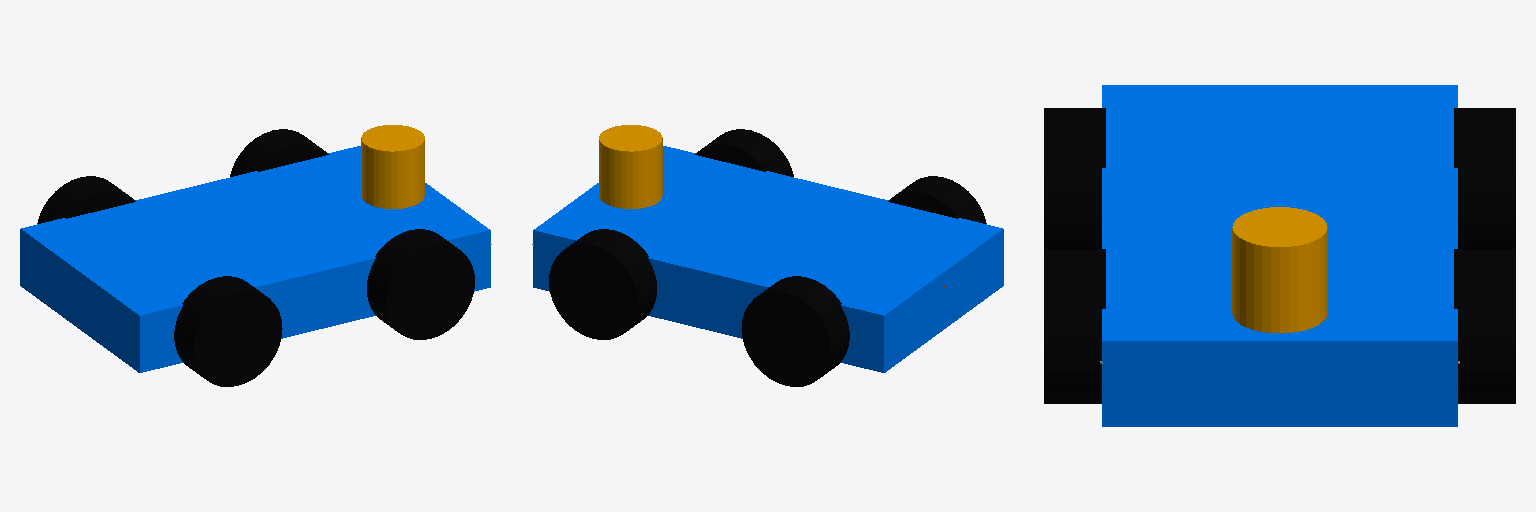
robot.urdf — hamer_mini:
<?xml version='1.0'?>
<robot name="hamer_mini">
	
	<!-- Dummy Link 
	<link name="dummy"/>
  	<joint name="dummy_joint" type="fixed">
     		<parent link="dummy"/>
     		<child link="base_link"/>
   	</joint> -->

	<!-- Base Link -->
	<link name="base_link">
	 	<visual>
		   <origin xyz="0 0 0" rpy="0 0 0" />
		   <geometry>
			<box size="0.255 0.150 0.04"/>
		   </geometry>
		   <material name="blue">
		      <color rgba="0 0.5 1 1"/>
		   </material>
		</visual>
		<!-- Base Collision -->
		<collision>
		   <origin xyz="0 0 0" rpy="0 0 0" />
		   <geometry>
			<box size="0.255 0.150 0.04"/>
		   </geometry>
		</collision>
		<!-- Base Inertial Elements -->
		<inertial>
		   <mass value="0.5"/>
		   <inertia ixx="0.002776" ixy="0.0" ixz="0.0"
			    iyy="0.003647" iyz="0.0" izz="0.001004"/>
		</inertial>
	</link>

	<!-- Right Back Wheel -->
	<link name="right_back_wheel">
	 	<visual>
		   <origin xyz="0 0 0" rpy="1.570795 0 0" />
		   <geometry>
			<cylinder length="0.026" radius="0.0325" />
		   </geometry>
		   <material name="black">
		      <color rgba="0.05 0.05 0.05 1"/>
		   </material>
		</visual>
		<!-- Right Back Wheel Collision -->
		<collision>
		   <origin xyz="0 0 0" rpy="1.570795 0 0" />
		   <geometry>
			<cylinder length="0.026" radius="0.0325" />
		   </geometry>
		</collision>
		<!-- Right Back Wheel Inertial Elements -->
		<inertial>
		   <mass value="0.01"/>
		   <inertia ixx="0.000003204" ixy="0.0" ixz="0.0"
			    iyy="0.000003204" iyz="0.0" izz="0.00005281"/>
		</inertial>
	</link>

	<joint name="joint_right_back_wheel" type="continuous">
	   <parent link="base_link"/>
	   <child link="right_back_wheel"/>
	   <origin xyz="-0.07 -0.086 0" rpy="0 0 0" />
	   <axis xyz="0 1 0"/>
	</joint>

	<!-- Right Front Wheel -->
	<link name="right_front_wheel">
	 	<visual>
		   <origin xyz="0 0 0" rpy="1.570795 0 0" />
		   <geometry>
			<cylinder length="0.026" radius="0.0325" />
		   </geometry>
		   <material name="black">
		      <color rgba="0.05 0.05 0.05 1"/>
		   </material>
		</visual>
		<!-- Right Front Wheel Collision -->
		<collision>
		   <origin xyz="0 0 0" rpy="1.570795 0 0" />
		   <geometry>
			<cylinder length="0.026" radius="0.0325" />
		   </geometry>
		</collision>
		<!-- Right Front Wheel Inertial Elements -->
		<inertial>
		   <mass value="0.01"/>
		   <inertia ixx="0.000003204" ixy="0.0" ixz="0.0"
			    iyy="0.000003204" iyz="0.0" izz="0.00005281"/>
		</inertial>
	</link>

	<joint name="joint_right_front_wheel" type="continuous">
	   <parent link="base_link"/>
	   <child link="right_front_wheel"/>
	   <origin xyz="0.07 -0.086 0" rpy="0 0 0" />
	   <axis xyz="0 1 0"/>
	</joint>

	<!-- Left Back Wheel -->
	<link name="left_back_wheel">
	 	<visual>
		   <origin xyz="0 0 0" rpy="1.570795 0 0" />
		   <geometry>
			<cylinder length="0.026" radius="0.0325" />
		   </geometry>
		   <material name="black">
		      <color rgba="0.05 0.05 0.05 1"/>
		   </material>
		</visual>
		<!-- Left Back Wheel Collision -->
		<collision>
		   <origin xyz="0 0 0" rpy="1.570795 0 0" />
		   <geometry>
			<cylinder length="0.026" radius="0.0325" />
		   </geometry>
		</collision>
		<!-- Left Back Wheel Inertial Elements -->
		<inertial>
		   <mass value="0.01"/>
		   <inertia ixx="0.000003204" ixy="0.0" ixz="0.0"
			    iyy="0.000003204" iyz="0.0" izz="0.00005281"/>
		</inertial>
	</link>

	<joint name="joint_left_back_wheel" type="continuous">
	   <parent link="base_link"/>
	   <child link="left_back_wheel"/>
	   <origin xyz="-0.07 0.086 0" rpy="0 0 0" />
	   <axis xyz="0 1 0"/>
	</joint>

	<!-- Left Front Wheel -->
	<link name="left_front_wheel">
	 	<visual>
		   <origin xyz="0 0 0" rpy="1.570795 0 0" />
		   <geometry>
			<cylinder length="0.026" radius="0.0325" />
		   </geometry>
		   <material name="black">
		      <color rgba="0.05 0.05 0.05 1"/>
		   </material>
		</visual>
		<!-- Left Front Wheel Collision -->
		<collision>
		   <origin xyz="0 0 0" rpy="1.570795 0 0" />
		   <geometry>
			<cylinder length="0.026" radius="0.0325" />
		   </geometry>
		</collision>
		<!--Left Front Wheel Inertial Elements -->
		<inertial>
		   <mass value="0.01"/>
		   <inertia ixx="0.000003204" ixy="0.0" ixz="0.0"
			    iyy="0.000003204" iyz="0.0" izz="0.00005281"/>
		</inertial>
	</link>

	<joint name="joint_left_front_wheel" type="continuous">
	   <parent link="base_link"/>
	   <child link="left_front_wheel"/>
	   <origin xyz="0.07 0.086 0" rpy="0 0 0" />
	   <axis xyz="0 1 0"/>
	</joint>

	<!-- Gazebo references -->
	<gazebo reference="base_link">
	   <material>Gazebo/Blue</material>
	</gazebo>
	<gazebo reference="right_front_wheel">
	   <material>Gazebo/Black</material>
	</gazebo>
	<gazebo reference="right_back_wheel">
	   <material>Gazebo/Black</material>
	</gazebo>
	<gazebo reference="left_front_wheel">
	   <material>Gazebo/Black</material>
	</gazebo>
	<gazebo reference="left_back_wheel">
	   <material>Gazebo/Black</material>
	</gazebo>

	<!-- Ultrasonic Sonar Sensors Links -->
	<!-- <link name="sonar_front">
		<collision>
			<origin xyz="0 0 0" rpy="0 0 0"/>
			<geometry>
				<box size="0.001 0.001 0.001"/>
			</geometry>
		</collision>
		<visual>
			<origin xyz="0 0 0" rpy="0 0 0"/>
			<geometry>
				<box size="0.001 0.001 0.001"/>
			</geometry>
		</visual> 
		<inertial>
			<mass value="1e-5" />
			<origin xyz="0 0 0" rpy="0 0 0"/>
			<inertia ixx="1e-6" ixy="0" ixz="0" iyy="1e-6" iyz="0" izz="1e-6" />
		</inertial>
	</link>

	<joint name="sonar_front_joint" type="fixed">
		<axis xyz="0 0 0" />
		<origin xyz="0.1275 0 0.01" rpy="0 0 0"/>
		<parent link="base_link"/>
		<child link="sonar_front"/>
	</joint> -->	

	 <link name="sonar_back">
		<collision>
			<origin xyz="0 0 0" rpy="0 0 0"/>
			<geometry>
				<box size="0.001 0.001 0.001"/>
			</geometry>
		</collision>
		<visual>
			<origin xyz="0 0 0" rpy="0 0 0"/>
			<geometry>
				<box size="0.001 0.001 0.001"/>
			</geometry>
		</visual> 
		<inertial>
			<mass value="1e-5" />
			<origin xyz="0 0 0" rpy="0 0 0"/>
			<inertia ixx="1e-6" ixy="0" ixz="0" iyy="1e-6" iyz="0" izz="1e-6" />
		</inertial>
	</link>

	<joint name="sonar_back_joint" type="fixed">
		<axis xyz="0 0 0" />
		<origin xyz="-0.1275 0 0.01" rpy="0 3.14 0"/>
		<parent link="base_link"/>
		<child link="sonar_back"/>
	</joint> 	

	<!-- Front-Left/Right Sonars -->
	<link name="sonar_left">
		<collision>
			<origin xyz="0 0 0" rpy="0 0 0"/>
			<geometry>
				<box size="0.001 0.001 0.001"/>
			</geometry>
		</collision>
		<visual>
			<origin xyz="0 0 0" rpy="0 0 0"/>
			<geometry>
				<box size="0.001 0.001 0.001"/>
			</geometry>
		</visual> 
		<inertial>
			<mass value="1e-5" />
			<origin xyz="0 0 0" rpy="0 0 0"/>
			<inertia ixx="1e-6" ixy="0" ixz="0" iyy="1e-6" iyz="0" izz="1e-6" />
		</inertial>
	</link>

	<joint name="sonar_left_joint" type="fixed">
		<axis xyz="0 0 0" />
		<origin xyz="0.1275 0.075 0.01" rpy="0 0 0.785"/>
		<parent link="base_link"/>
		<child link="sonar_left"/>
	</joint>	

	<link name="sonar_right">
		<collision>
			<origin xyz="0 0 0" rpy="0 0 0"/>
			<geometry>
				<box size="0.001 0.001 0.001"/>
			</geometry>
		</collision>
		<visual>
			<origin xyz="0 0 0" rpy="0 0 0"/>
			<geometry>
				<box size="0.001 0.001 0.001"/>
			</geometry>
		</visual> 
		<inertial>
			<mass value="1e-5" />
			<origin xyz="0 0 0" rpy="0 0 0"/>
			<inertia ixx="1e-6" ixy="0" ixz="0" iyy="1e-6" iyz="0" izz="1e-6" />
		</inertial>
	</link>

	<joint name="sonar_right_joint" type="fixed">
		<axis xyz="0 0 0" />
		<origin xyz="0.1275 -0.075 0.01" rpy="0 0 -0.785"/>
		<parent link="base_link"/>
		<child link="sonar_right"/>
	</joint>

	<!-- Ultrasonic Sonar Sensors Gazebo Ref. -->
	<gazebo reference="sonar_front">
		<material>Gazebo/Green</material>
		<sensor type="ray" name="sonar_front">
		  <pose>0 0 0 0 0 0</pose>
		  <update_rate>5</update_rate>
		  <ray>
		    <scan>
		      <horizontal>
		        <samples>5</samples>
		        <resolution>1.0</resolution>
		        <min_angle>-0.05</min_angle>
		        <max_angle>0.05</max_angle>
		      </horizontal>
		      <vertical>
		        <samples>5</samples>
		        <resolution>1</resolution>
		        <min_angle>-0.05</min_angle>
		        <max_angle>0.05</max_angle>
		      </vertical>
		    </scan>
		    <range>
		      <min>0.01</min>
		      <max>0.9</max>
		      <resolution>0.01</resolution>
		    </range>
		  </ray>
		  <plugin filename="libgazebo_ros_range.so" name="gazebo_ros_range">
		    <gaussianNoise>0.005</gaussianNoise>
		    <alwaysOn>true</alwaysOn>
		    <updateRate>5</updateRate>
		    <topicName>sonar_front</topicName>
		    <frameName>sonar_front</frameName>
		    <fov>0.8</fov>
		    <radiation>ultrasound</radiation>
		  </plugin>
		</sensor>
	</gazebo>

	<!-- Sonar Back -->
	<gazebo reference="sonar_back">
		<material>Gazebo/Green</material>
		<sensor type="ray" name="sonar_back">
		  <pose>0 0 0 0 0 0</pose>
		  <update_rate>5</update_rate>
		  <ray>
		    <scan>
		      <horizontal>
		        <samples>5</samples>
		        <resolution>1.0</resolution>
		        <min_angle>-0.05</min_angle>
		        <max_angle>0.05</max_angle>
		      </horizontal>
		      <vertical>
		        <samples>5</samples>
		        <resolution>1</resolution>
		        <min_angle>-0.05</min_angle>
		        <max_angle>0.05</max_angle>
		      </vertical>
		    </scan>
		    <range>
		      <min>0.01</min>
		      <max>0.9</max>
		      <resolution>0.01</resolution>
		    </range>
		  </ray>
		  <plugin filename="libgazebo_ros_range.so" name="gazebo_ros_range">
		    <gaussianNoise>0.005</gaussianNoise>
		    <alwaysOn>true</alwaysOn>
		    <updateRate>5</updateRate>
		    <topicName>sonar_back</topicName>
		    <frameName>sonar_back</frameName>
		    <fov>0.8</fov>
		    <radiation>ultrasound</radiation>
		  </plugin>
		</sensor>
	</gazebo> 
	
	
	<gazebo reference="sonar_left">
		<material>Gazebo/Green</material>
		<sensor type="ray" name="sonar_left">
		  <pose>0 0 0 0 0 0</pose>
		  <update_rate>5</update_rate>
		  <ray>
		    <scan>
		      <horizontal>
		        <samples>5</samples>
		        <resolution>1.0</resolution>
		        <min_angle>-0.2</min_angle>
		        <max_angle>0.2</max_angle>
		      </horizontal>
		      <vertical>
		        <samples>5</samples>
		        <resolution>1</resolution>
		        <min_angle>-0.05</min_angle>
		        <max_angle>0.05</max_angle>
		      </vertical>
		    </scan>
		    <range>
		      <min>0.01</min>
		      <max>0.9</max>
		      <resolution>0.01</resolution>
		    </range>
		  </ray>
		  <plugin filename="libgazebo_ros_range.so" name="gazebo_ros_range">
		    <gaussianNoise>0.005</gaussianNoise>
		    <alwaysOn>true</alwaysOn>
		    <updateRate>5</updateRate>
		    <topicName>sonar_left</topicName>
		    <frameName>sonar_left</frameName>
		    <fov>0.8</fov>
		    <radiation>ultrasound</radiation>
		  </plugin>
		</sensor>
	</gazebo>

	<gazebo reference="sonar_right">
		<material>Gazebo/Green</material>
		<sensor type="ray" name="sonar_right">
		  <pose>0 0 0 0 0 0</pose>
		  <update_rate>5</update_rate>
		  <ray>
		    <scan>
		      <horizontal>
		        <samples>5</samples>
		        <resolution>1.0</resolution>
		        <min_angle>-0.05</min_angle>
		        <max_angle>0.05</max_angle>
		      </horizontal>
		      <vertical>
		        <samples>5</samples>
		        <resolution>1</resolution>
		        <min_angle>-0.05</min_angle>
		        <max_angle>0.05</max_angle>
		      </vertical>
		    </scan>
		    <range>
		      <min>0.01</min>
		      <max>0.9</max>
		      <resolution>0.01</resolution>
		    </range>
		  </ray>
		  <plugin filename="libgazebo_ros_range.so" name="gazebo_ros_range">
		    <gaussianNoise>0.005</gaussianNoise>
		    <alwaysOn>true</alwaysOn>
		    <updateRate>5</updateRate>
		    <topicName>sonar_right</topicName>
		    <frameName>sonar_right</frameName>
		    <fov>0.8</fov>
		    <radiation>ultrasound</radiation>
		  </plugin>
		</sensor>
	</gazebo>

	<!-- Differential Drive Plugin 
	<gazebo>
	    <plugin name="differential_drive_controller"
		    filename="libgazebo_ros_diff_drive.so">
		<legacyMode>false</legacyMode>
		<alwaysOn>true</alwaysOn>
		<updateRate>1000.0</updateRate>
		<leftJoint>joint_left_back_wheel, joint_left_front_wheel</leftJoint>
		<rightJoint>joint_right_back_wheel, joint_right_front_wheel</rightJoint>
		<robotBaseFrame>base_link</robotBaseFrame>
		<wheelSeparation>0.25</wheelSeparation>
		<wheelDiameter>0.07</wheelDiameter>
		<publishWheelJointState>true</publishWheelJointState>
		<wheelDiameter>0.2</wheelDiameter>
		<wheelTorque>10</wheelTorque>
		<publishTf>1</publishTf>
		<odometryFrame>map</odometryFrame>
		<commandTopic>cmd_vel</commandTopic>
		<odometryTopic>odom</odometryTopic>
		<robotBaseFrame>base_link</robotBaseFrame>
		<wheelAcceleration>2.8</wheelAcceleration>
		<publishWheelJointState>true</publishWheelJointState>
		<publishWheelTF>false</publishWheelTF>
		<odometrySource>world</odometrySource>
		<rosDebugLevel>Debug</rosDebugLevel>
	     </plugin>
	</gazebo>  -->
 
	<!-- Gazebo ROS Control Plugin and Planar Move Plugin -->
	<gazebo>
		<plugin name="gazebo_ros_control" filename="libgazebo_ros_control.so">
			<robotNamespace>/hamer_mini</robotNamespace>
			<!--<robotSimType>gazebo_ros_control/DefaultRobotHWSim</robotSimType> -->
			<legacyModeNS>false</legacyModeNS>
		</plugin>
	</gazebo> 	

	<gazebo>
		<plugin name="base_controller" filename="libgazebo_ros_planar_move.so">
		    <commandTopic>cmd_vel</commandTopic>
		    <odometryTopic>odom</odometryTopic>
		    <odometryFrame>odom</odometryFrame>
		    <odometryRate>100</odometryRate>
		    <robotBaseFrame>base_link</robotBaseFrame>
		</plugin> 
	</gazebo> 

	<!-- Hokuyo Laser -->
	 	
	<link name="hokuyo_link">
	  <collision>
	    <origin xyz="0 0 0" rpy="0 0 0"/>
	    <geometry>
	  	<cylinder length="0.04" radius="0.02" />
	    </geometry>
	  </collision>
	  <visual>
	    <origin xyz="0 0 0" rpy="0 0 0"/>
	    <geometry>
	  	<cylinder length="0.04" radius="0.02" />
	    </geometry>
	  </visual>
	</link>

	<joint name="hokuyo_joint" type="fixed">
	  <axis xyz="0 1 0" />
	  <origin xyz="0.1 0 0.04" rpy="0 0 0"/>
	  <parent link="base_link"/>
	  <child link="hokuyo_link"/>
	</joint>	

	<gazebo reference="hokuyo_link">
	    <sensor type="ray" name="head_hokuyo_sensor">
	      <pose>0 0 0 0 0 0</pose>
	      <visualize>true</visualize>
	      <update_rate>40</update_rate>
	      <ray>
		<scan>
		  <horizontal>
		    <samples>720</samples>
		    <resolution>1</resolution>
		    <min_angle>-3.1416</min_angle>
		    <max_angle>3.1416</max_angle>
		  </horizontal>
		</scan>
		<range>
		  <min>0.10</min>
		  <max>30.0</max>
		  <resolution>0.01</resolution>
		</range>
		<noise>
		  <type>gaussian</type>
		  <mean>0.0</mean>
		  <stddev>0.01</stddev>
		</noise>
	      </ray>
	      <plugin name="gazebo_ros_head_hokuyo_controller" filename="libgazebo_ros_laser.so">
		<topicName>/hamer_mini/laser/scan</topicName>
		<frameName>hokuyo_link</frameName>
	      </plugin>
	    </sensor>
  	</gazebo>  

	<!-- Kinect Camera
	<link name="camera_link">
	 	<visual>
		   <origin rpy="1.570796 0 0" xyz="0 0 0"/>
		   <geometry>
		       <mesh filename="package://hamer_mini/meshes/Stl/Intel_RealSense_Depth_Camera_D435.stl" scale="0.00105 0.00105 0.00105"/>
		   </geometry>
	 	</visual>
	 	<collision>
			<origin xyz="0.0 0.0 0.0" rpy="0 0 0" />
			<geometry>
				<box size="0.0730 0.2760 0.0720"/>
	       		</geometry>
	 	</collision>
	 	<inertial>
			<mass value="0.170" />
			<origin xyz="0 0 0" />
			<inertia ixx="0.001152600" ixy="0.0" ixz="0.0"
				iyy="0.000148934" iyz="0.0"
				izz="0.001154654" />
	 		</inertial>
	</link>
	
	<joint name="camera_rgb_joint" type="fixed">
	 	<origin xyz="0.1275 0 0.03" rpy="0.0 0.0 0.0"/>
	 	<parent link="camera_link"/>
		<child link="camera_rgb_frame" />
	</joint>
	
	<gazebo reference="camera_link">
		<material>Gazebo/FlatBlack</material>
	</gazebo>
	
	<link name="camera_rgb_frame"/>
	
	<joint name="camera_rgb_optical_joint" type="fixed">
		<origin xyz="0.1275 0 0.03" rpy="-1.57079632679 0 -1.57079632679" />
		<parent link="camera_rgb_frame" />
	 	<child link="camera_rgb_optical_frame" />
	</joint>
	
	<link name="camera_rgb_optical_frame"/>
	
	<joint name="camera_joint" type="fixed">
		 <origin xyz="0.1275 0 0.03" rpy="0 0 1.5707969" />
		 <parent link="base_link"/>
		 <child link="camera_link"/>
	</joint>
	
	<joint name="camera_depth_joint" type="fixed">
		 <origin xyz="0.1275 0 0.03" rpy="0 0 0" />
	         <parent link="camera_link" />
	 	 <child link="camera_depth_frame" />
	</joint>
	
	<link name="camera_depth_frame"/>
		<joint name="camera_depth_optical_joint" type="fixed">
		 <origin xyz="0.1275 0 0.03" rpy="-1.57079632679 0 -1.57079632679" />
		 <parent link="camera_depth_frame" />
		 <child link="camera_depth_optical_frame" />
		</joint>
	
	<link name="camera_depth_optical_frame"/>

	<gazebo reference="camera_link">  
	 	<sensor type="depth" name="camera">
			<always_on>true</always_on>
			<update_rate>20.0</update_rate>
			<camera>
		 		<horizontal_fov>1.0471975512</horizontal_fov>
		 		<image>
					<format>R8G8B8</format>
					<width>640</width>
					<height>480</height>
		 		</image>
		 		<clip>
					<near>0.05</near>
					<far>8.0</far>
				</clip>
			</camera>
		
			<plugin name="kinect_camera_controller" filename="libgazebo_ros_openni_kinect.so">
		 		<robotNamespace>/hamer_mini</robotNamespace>
		 		<cameraName>camera</cameraName>
		 		<alwaysOn>true</alwaysOn>
		 		<updateRate>10</updateRate>
		 		<imageTopicName>rgb/image_raw</imageTopicName>
				 <depthImageTopicName>depth/image_raw</depthImageTopicName>
				 <pointCloudTopicName>depth/points</pointCloudTopicName>
				 <cameraInfoTopicName>rgb/camera_info</cameraInfoTopicName>
				 <depthImageCameraInfoTopicName>depth/camera_info</depthImageCameraInfoTopicName>
				 <frameName>camera_depth_optical_frame</frameName>
				 <baseline>0.1</baseline>
				 <pointCloudCutoff>0.4</pointCloudCutoff>
				 <distortionK1>0.00000001</distortionK1>
				 <distortionK2>0.00000001</distortionK2>
				 <distortionK3>0.00000001</distortionK3>
				 <distortionT1>0.00000001</distortionT1>
				 <distortionT2>0.00000001</distortionT2>
				 <CxPrime>0</CxPrime>
				 <Cx>0</Cx>
				 <Cy>0</Cy>
				 <focalLength>0</focalLength>
				 <hackBaseline>0</hackBaseline>
			</plugin>
	 	</sensor>
	</gazebo> -->
</robot> 

--- Facts derived from the render (not from the file) ---
3 views of the same robot in one strip: view 1: azimuth 30°, elevation 25°; view 2: azimuth 150°, elevation 25°; view 3: azimuth 270°, elevation 25° (orthographic).
Model hamer_mini with 9 links and 8 joints (4 continuous, 4 fixed), rooted at base_link, posed every joint at zero.
Visible links, largest first — view 1: base_link, right_front_wheel, right_back_wheel, hokuyo_link, left_front_wheel, left_back_wheel; view 2: base_link, left_front_wheel, left_back_wheel, hokuyo_link, right_front_wheel, right_back_wheel; view 3: base_link, hokuyo_link, right_front_wheel, left_front_wheel, right_back_wheel, left_back_wheel.
Link boxes in pixels (x1,y1,x2,y2): base_link: (20, 146, 490, 372); right_front_wheel: (367, 229, 474, 339); right_back_wheel: (174, 276, 282, 386); hokuyo_link: (361, 125, 424, 208); left_front_wheel: (230, 129, 328, 176); left_back_wheel: (37, 176, 135, 223); base_link: (533, 146, 1003, 372); left_front_wheel: (549, 229, 656, 339); left_back_wheel: (741, 276, 849, 386); hokuyo_link: (599, 125, 662, 208); right_front_wheel: (695, 129, 793, 176); right_back_wheel: (888, 176, 986, 223); base_link: (1102, 85, 1457, 426); hokuyo_link: (1232, 207, 1327, 333); right_front_wheel: (1044, 249, 1105, 403); left_front_wheel: (1454, 249, 1515, 403); right_back_wheel: (1044, 108, 1105, 248); left_back_wheel: (1454, 108, 1515, 248).
Size in the robot's own frame: 0.2562 by 0.198 by 0.0925 metres.
Geometry: primitives only (box / cylinder / sphere), no mesh files.
